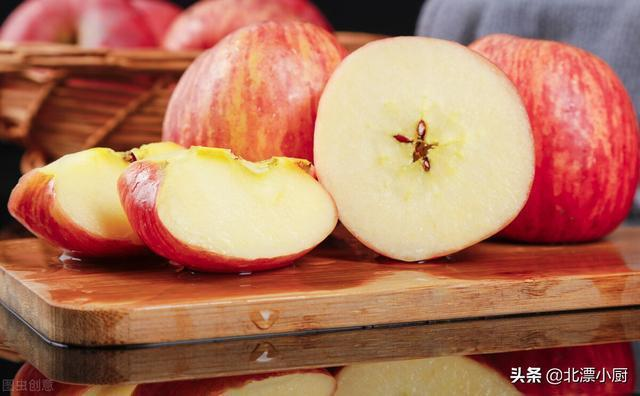apple: (313, 31, 534, 264), (467, 32, 640, 247), (161, 21, 352, 163), (118, 146, 338, 269), (5, 142, 186, 262)
